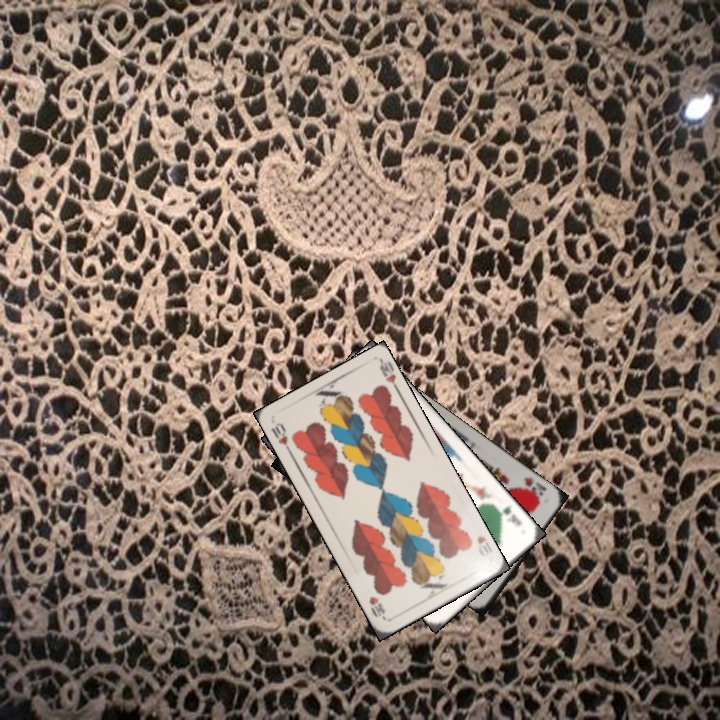GK: (492, 501, 524, 529)
H10: (267, 418, 294, 456), (473, 532, 492, 560)
HK: (515, 473, 549, 504)
